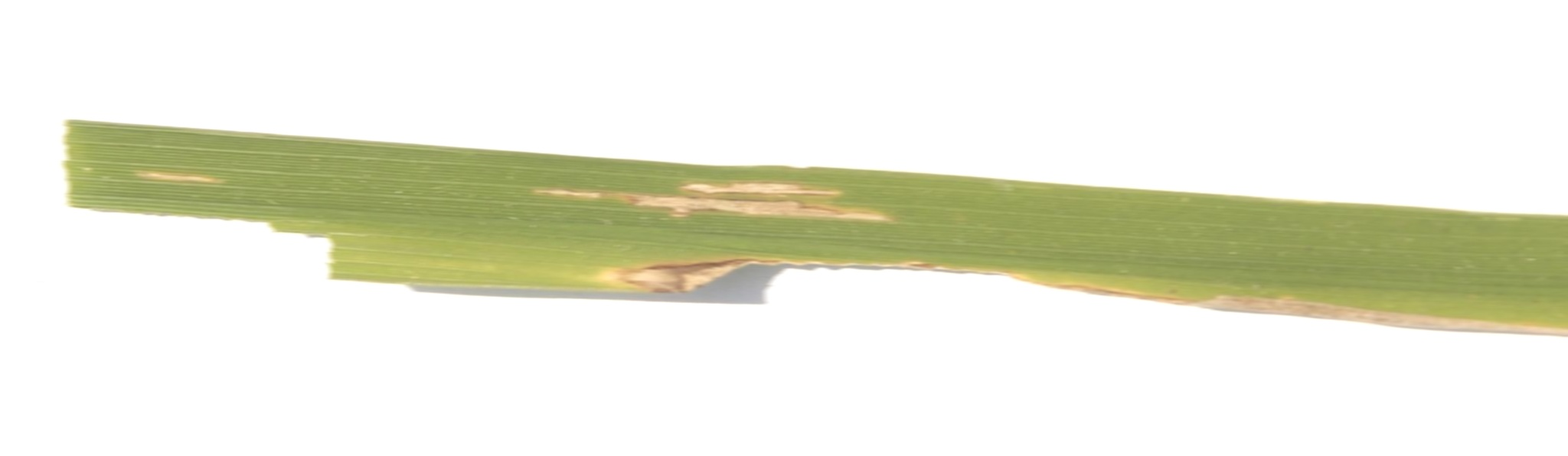Leaf_Blast: (469, 137, 939, 224), (88, 140, 263, 195)
